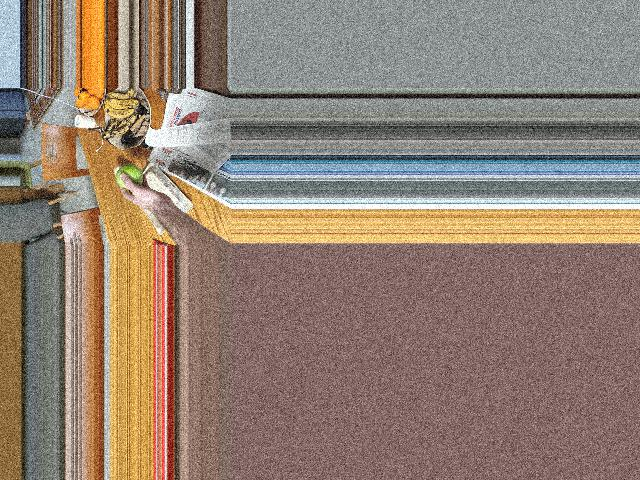apple: (115, 164, 144, 190)
